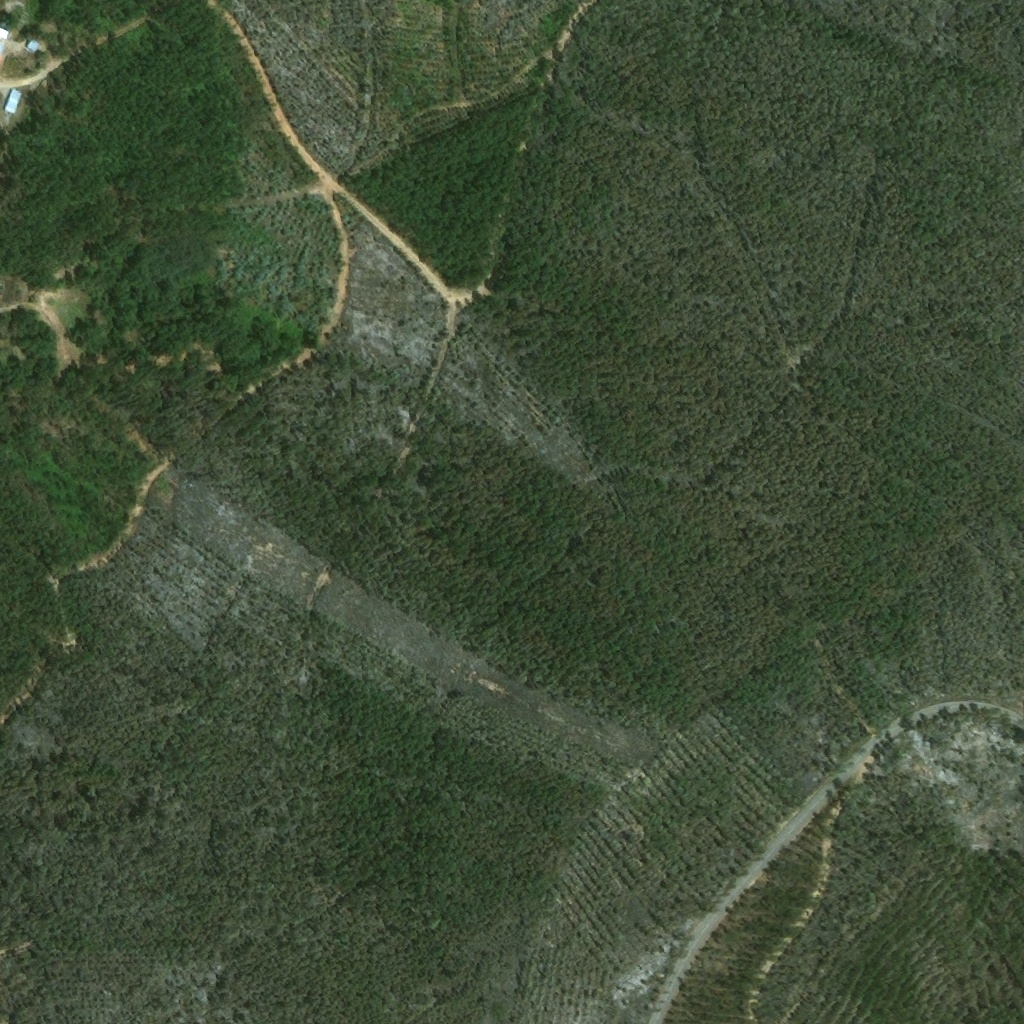0 no-damage: (4, 88, 24, 115), (24, 38, 41, 53)
4 un-classified: (0, 28, 10, 66)
